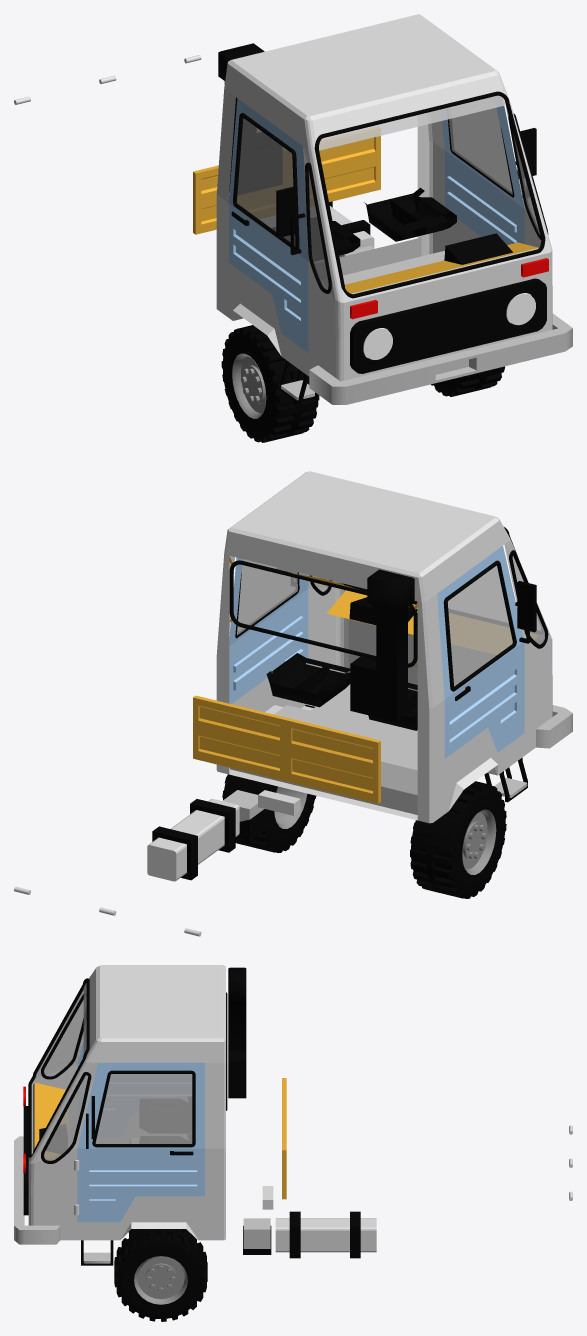
The model's file is avak.fbx.
3 views of the same model, one above another, from view 1: azimuth 30°, elevation 25°; view 2: azimuth 150°, elevation 25°; view 3: azimuth 270°, elevation 25° (orthographic). The views are drawn at different scales.
Visible parts, largest first — view 1: Kabine, Tür, Frontgrill_neu, Tür_Fenster, Stoßstange, Reifen_1, ladewand1_1, sitz, F_Scheibe_Rahmen, Kabine_innen, Frontscheibe, Tür_F_Rahmen (+10 smaller); view 2: Kabine, Tür, ladewand1_1, Reifen_1, Tür_Fenster, Kabine_innen, Luftfilter, sitz, Tank, Felge, HeckF_Rahmen, Halterung_Tank (+10 smaller); view 3: Kabine, Tür, Tür_Fenster, Reifen_1, Tank, Luftfilter, Kabine_Fenst_1, Felge, Stoßstange, Rahmen, F_Scheibe_Rahmen, Tür_F_Rahmen (+6 smaller).
Boxes of the visible parts, bbox=[...] form: Kabine: bbox=[216, 14, 552, 381]; Tür: bbox=[228, 98, 524, 352]; Frontgrill_neu: bbox=[350, 278, 546, 373]; Tür_Fenster: bbox=[237, 107, 512, 245]; Stoßstange: bbox=[309, 313, 572, 404]; Reifen_1: bbox=[221, 325, 504, 442]; ladewand1_1: bbox=[193, 136, 380, 234]; sitz: bbox=[332, 187, 456, 255]; F_Scheibe_Rahmen: bbox=[314, 91, 545, 298]; Kabine_innen: bbox=[312, 87, 538, 294]; Frontscheibe: bbox=[319, 95, 505, 150]; Tür_F_Rahmen: bbox=[233, 113, 514, 249]; Kabine: bbox=[216, 471, 552, 823]; Tür: bbox=[229, 546, 524, 758]; ladewand1_1: bbox=[193, 695, 380, 803]; Reifen_1: bbox=[222, 774, 506, 898]; Tür_Fenster: bbox=[237, 559, 512, 686]; Kabine_innen: bbox=[230, 527, 504, 814]; Luftfilter: bbox=[350, 569, 414, 721]; sitz: bbox=[266, 653, 417, 730]; Tank: bbox=[147, 799, 239, 881]; Felge: bbox=[274, 786, 496, 874]; HeckF_Rahmen: bbox=[229, 560, 417, 667]; Halterung_Tank: bbox=[152, 799, 235, 880]; Kabine: bbox=[28, 965, 225, 1240]; Tür: bbox=[77, 1040, 204, 1222]; Tür_Fenster: bbox=[95, 1074, 192, 1143]; Reifen_1: bbox=[114, 1229, 207, 1321]; Tank: bbox=[275, 1218, 376, 1252]; Luftfilter: bbox=[228, 967, 246, 1098]; Kabine_Fenst_1: bbox=[44, 1000, 88, 1160]; Felge: bbox=[134, 1256, 187, 1304]; Stoßstange: bbox=[14, 1136, 60, 1244]; Rahmen: bbox=[41, 994, 91, 1163]; F_Scheibe_Rahmen: bbox=[28, 978, 89, 1157]; Tür_F_Rahmen: bbox=[92, 1070, 195, 1147].
Bounding box in the file's own units: 177 × 226 × 415.
